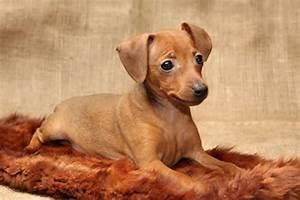dog: (29, 18, 259, 196)
